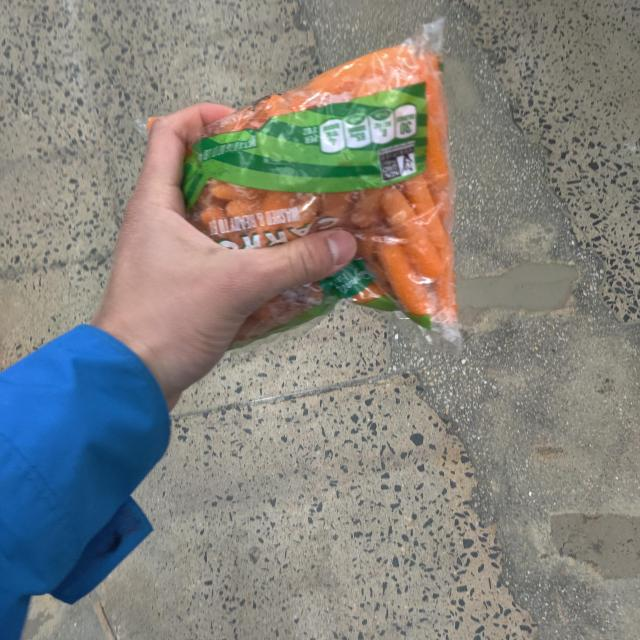Carrots: (138, 32, 476, 356)
